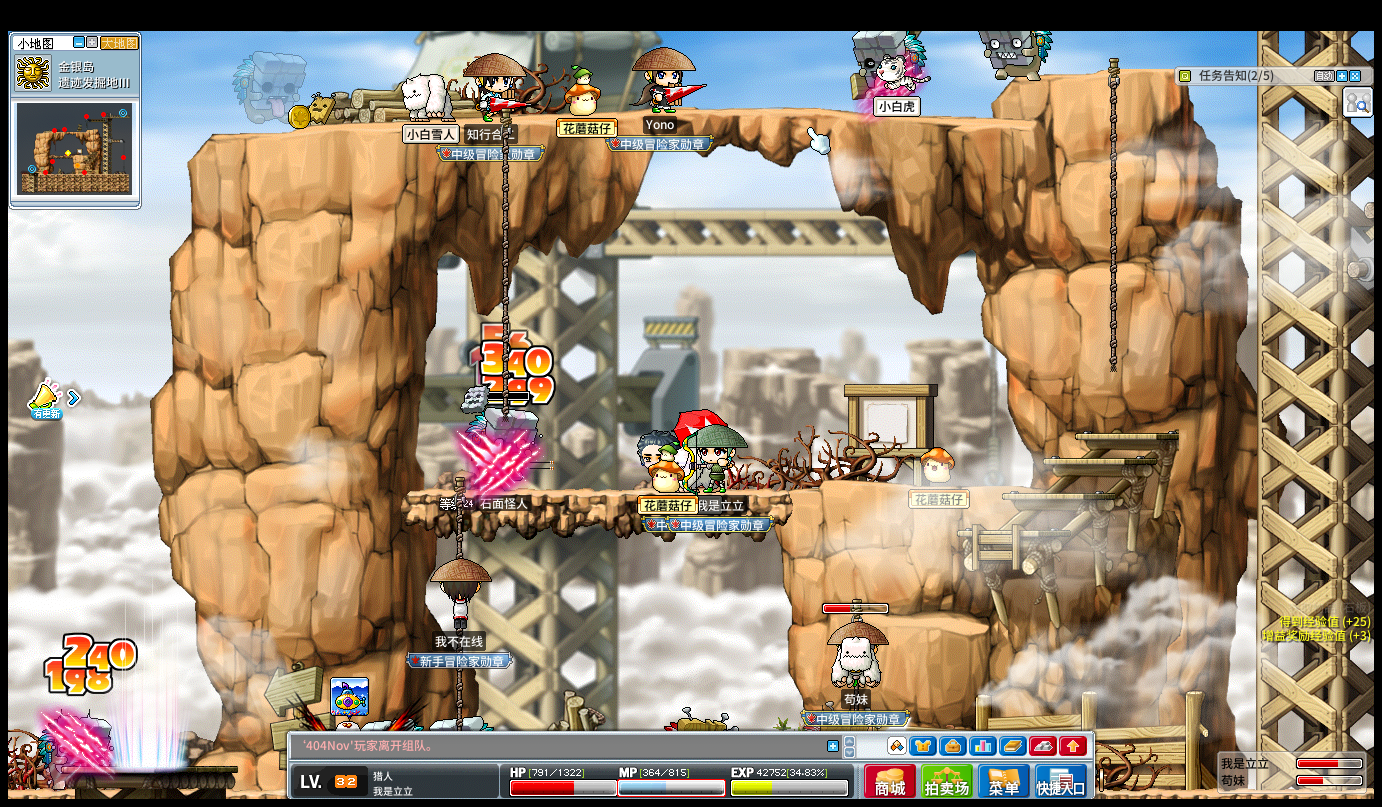floor: (192, 105, 1061, 139), (408, 488, 755, 498), (407, 487, 638, 498), (17, 764, 241, 775), (1016, 63, 1177, 77), (884, 613, 989, 634), (1027, 66, 1177, 79), (1026, 69, 1181, 81), (1073, 429, 1179, 442), (1036, 456, 1153, 465), (956, 528, 1070, 536), (1004, 492, 1114, 500)
monster: (856, 27, 929, 114), (232, 50, 308, 129), (467, 408, 540, 488), (42, 705, 114, 770)
rope: (1105, 55, 1120, 384), (500, 107, 510, 420), (450, 480, 464, 556), (454, 668, 462, 721)
